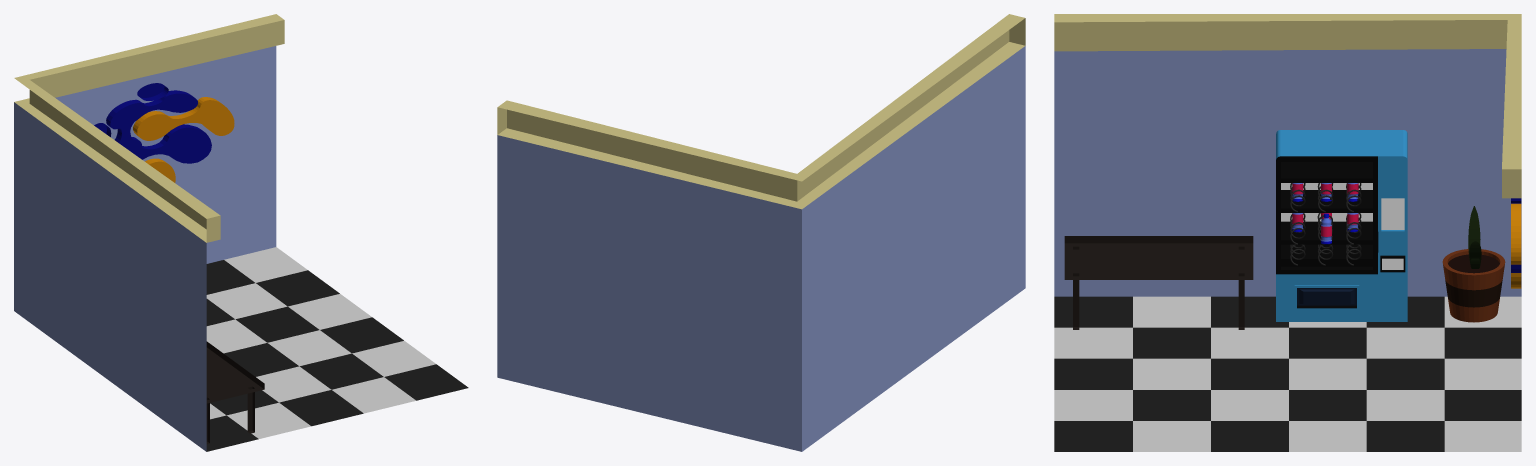
The model's file is AnimatedObject0038.obj.
3 views of the same model, side by side, from view 1: azimuth 30°, elevation 25°; view 2: azimuth 150°, elevation 25°; view 3: azimuth 270°, elevation 25° (orthographic). The views are drawn at different scales.
Parts seen in each view (by area): view 1: ruangan_Cube.003, meja_Cube.004, logo_Circle.005, logo.001_Circle.001, logo.005_Circle.002; view 2: ruangan_Cube.003; view 3: ruangan_Cube.003, vending_machine_Cube.001, meja_Cube.004, pot_bunga_Cylinder, per_second\_Spiral.010, Plane.007, logo_Circle.005.
Part boxes in pixels (x1,y1,x2,y2): ruangan_Cube.003: (14,14,468,451); meja_Cube.004: (206,341,264,444); logo_Circle.005: (133,97,234,140); logo.001_Circle.001: (115,124,211,163); logo.005_Circle.002: (106,90,197,132); ruangan_Cube.003: (497,14,1025,451); ruangan_Cube.003: (1054,14,1521,451); vending_machine_Cube.001: (1276,130,1407,321); meja_Cube.004: (1064,236,1253,329); pot_bunga_Cylinder: (1442,249,1505,322); per_second\_Spiral.010: (1290,183,1361,265); Plane.007: (1468,206,1481,268); logo_Circle.005: (1511,203,1521,264).
Size of the model in its own units: 11.73 by 9.95 by 14.9.
